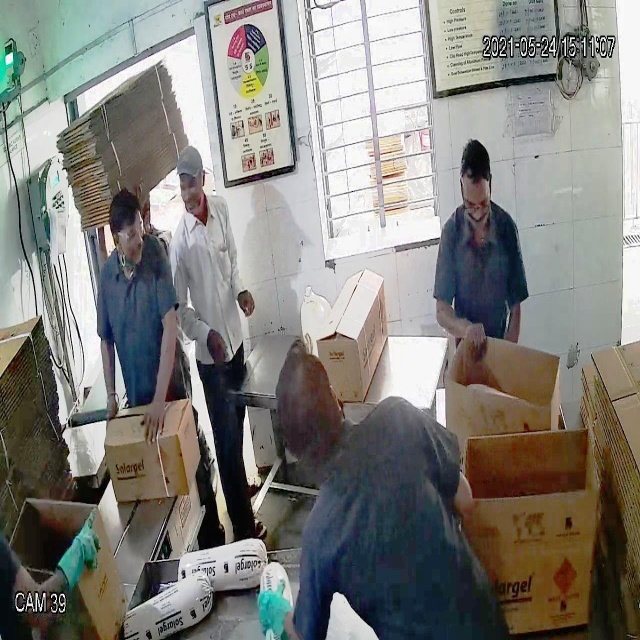Gafas: (109, 215, 146, 248)
Sin_gafas: (175, 176, 207, 200)
